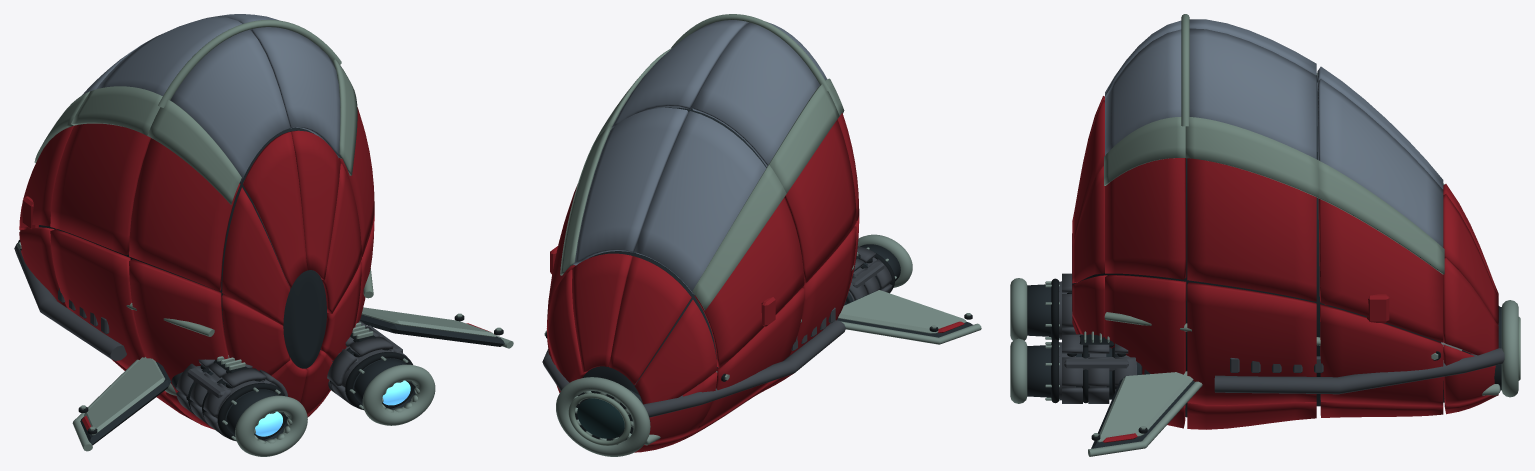
Rendered from phoenix.glb.
3 views of the same model, side by side, from view 1: azimuth 30°, elevation 25°; view 2: azimuth 150°, elevation 25°; view 3: azimuth 270°, elevation 25° (orthographic). The views are drawn at different scales.
Parts seen in each view (by area): view 1: phoenix; view 2: phoenix; view 3: phoenix.
Part boxes in pixels (bbox=[...]): phoenix: bbox=[14, 14, 513, 456]; phoenix: bbox=[542, 14, 981, 456]; phoenix: bbox=[1010, 14, 1520, 456].
Bounding box in the file's own units: 4.09 × 3.7 × 4.31.
